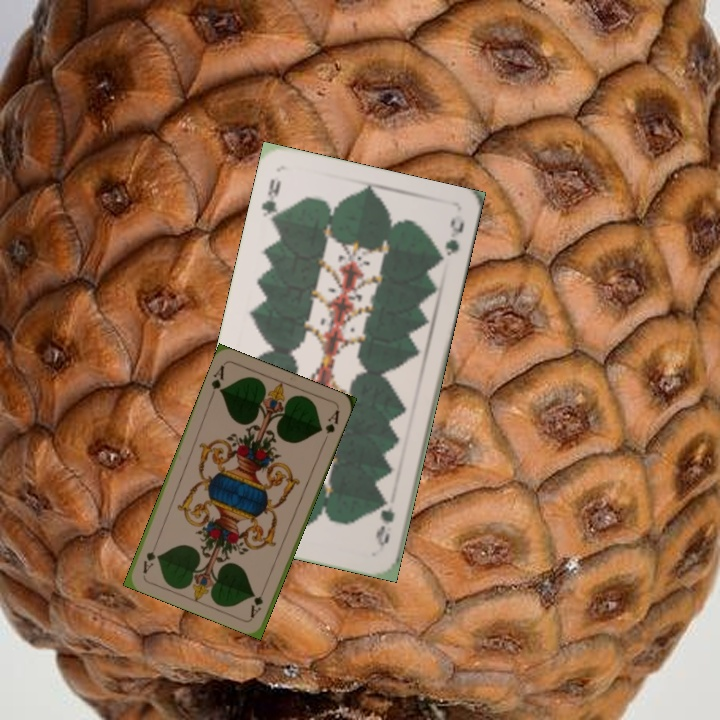G9: (257, 175, 284, 230), (371, 493, 397, 549)
GA: (246, 581, 269, 620), (207, 361, 227, 400)
